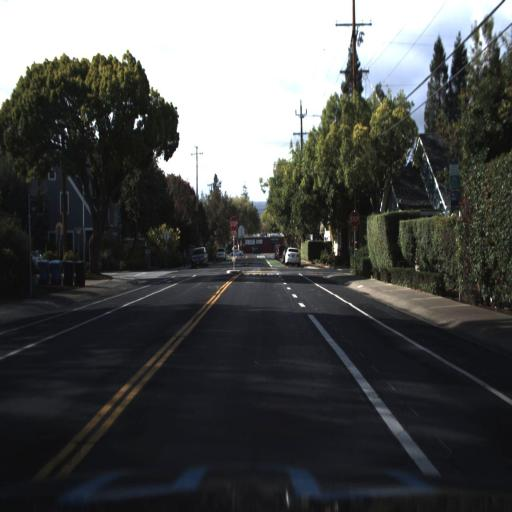car: (189, 245, 207, 268), (283, 244, 300, 266)
